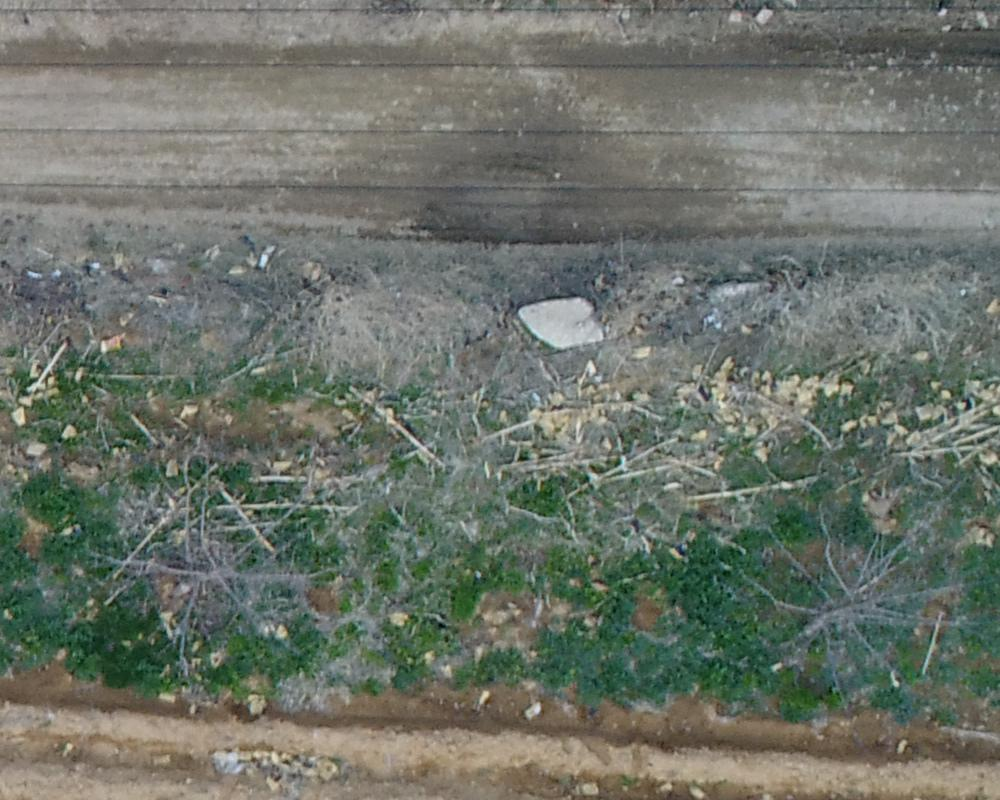apple: (713, 485, 990, 702), (84, 490, 337, 699)
